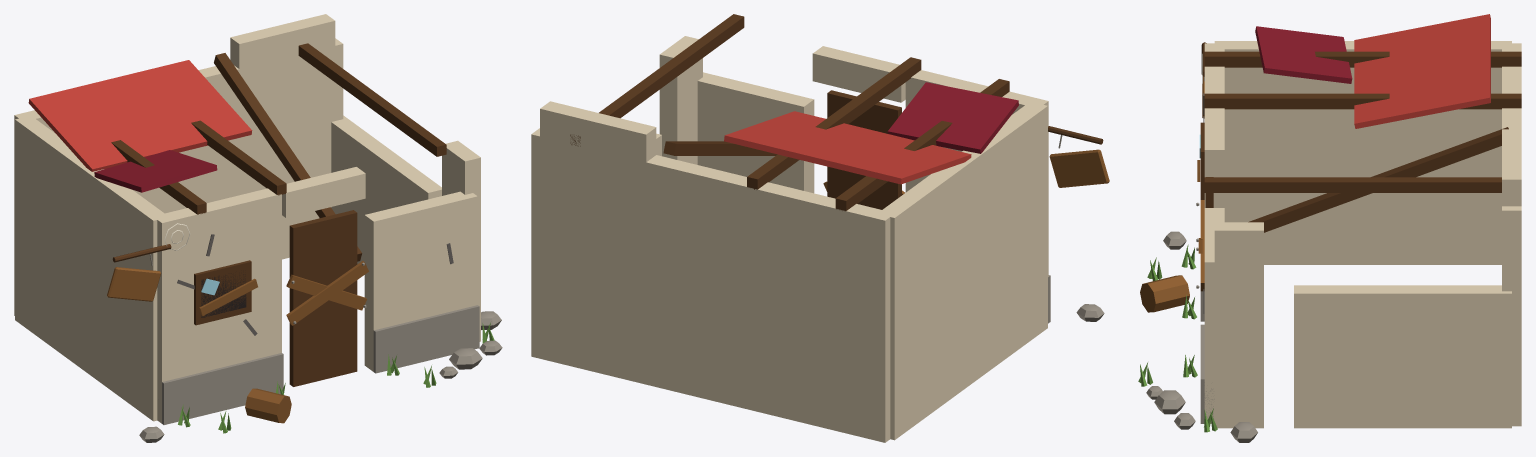
File: PR_Intro_Harabe.fbx
3 views of the same model, side by side, from view 1: azimuth 30°, elevation 25°; view 2: azimuth 150°, elevation 25°; view 3: azimuth 270°, elevation 25° (orthographic). The views are drawn at different scales.
Parts seen in each view (by area): view 1: PR_Intro_Harabe; view 2: PR_Intro_Harabe; view 3: PR_Intro_Harabe.
Boxes of the visible parts, left/top/right/bottom form: PR_Intro_Harabe: left=14, top=14, right=502, bottom=442; PR_Intro_Harabe: left=531, top=14, right=1109, bottom=442; PR_Intro_Harabe: left=1138, top=14, right=1521, bottom=442.
Size of the model in its own units: 5.13 by 2.76 by 3.87.
1 material, 1 textured.
